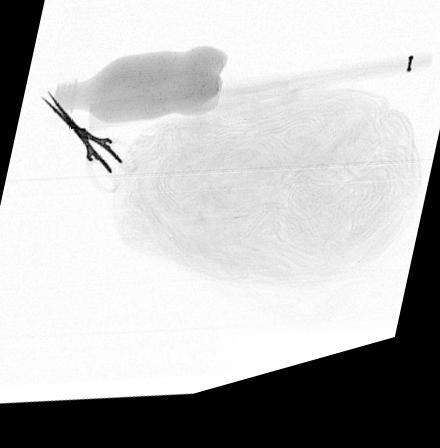Scissors: (36, 91, 137, 201)
